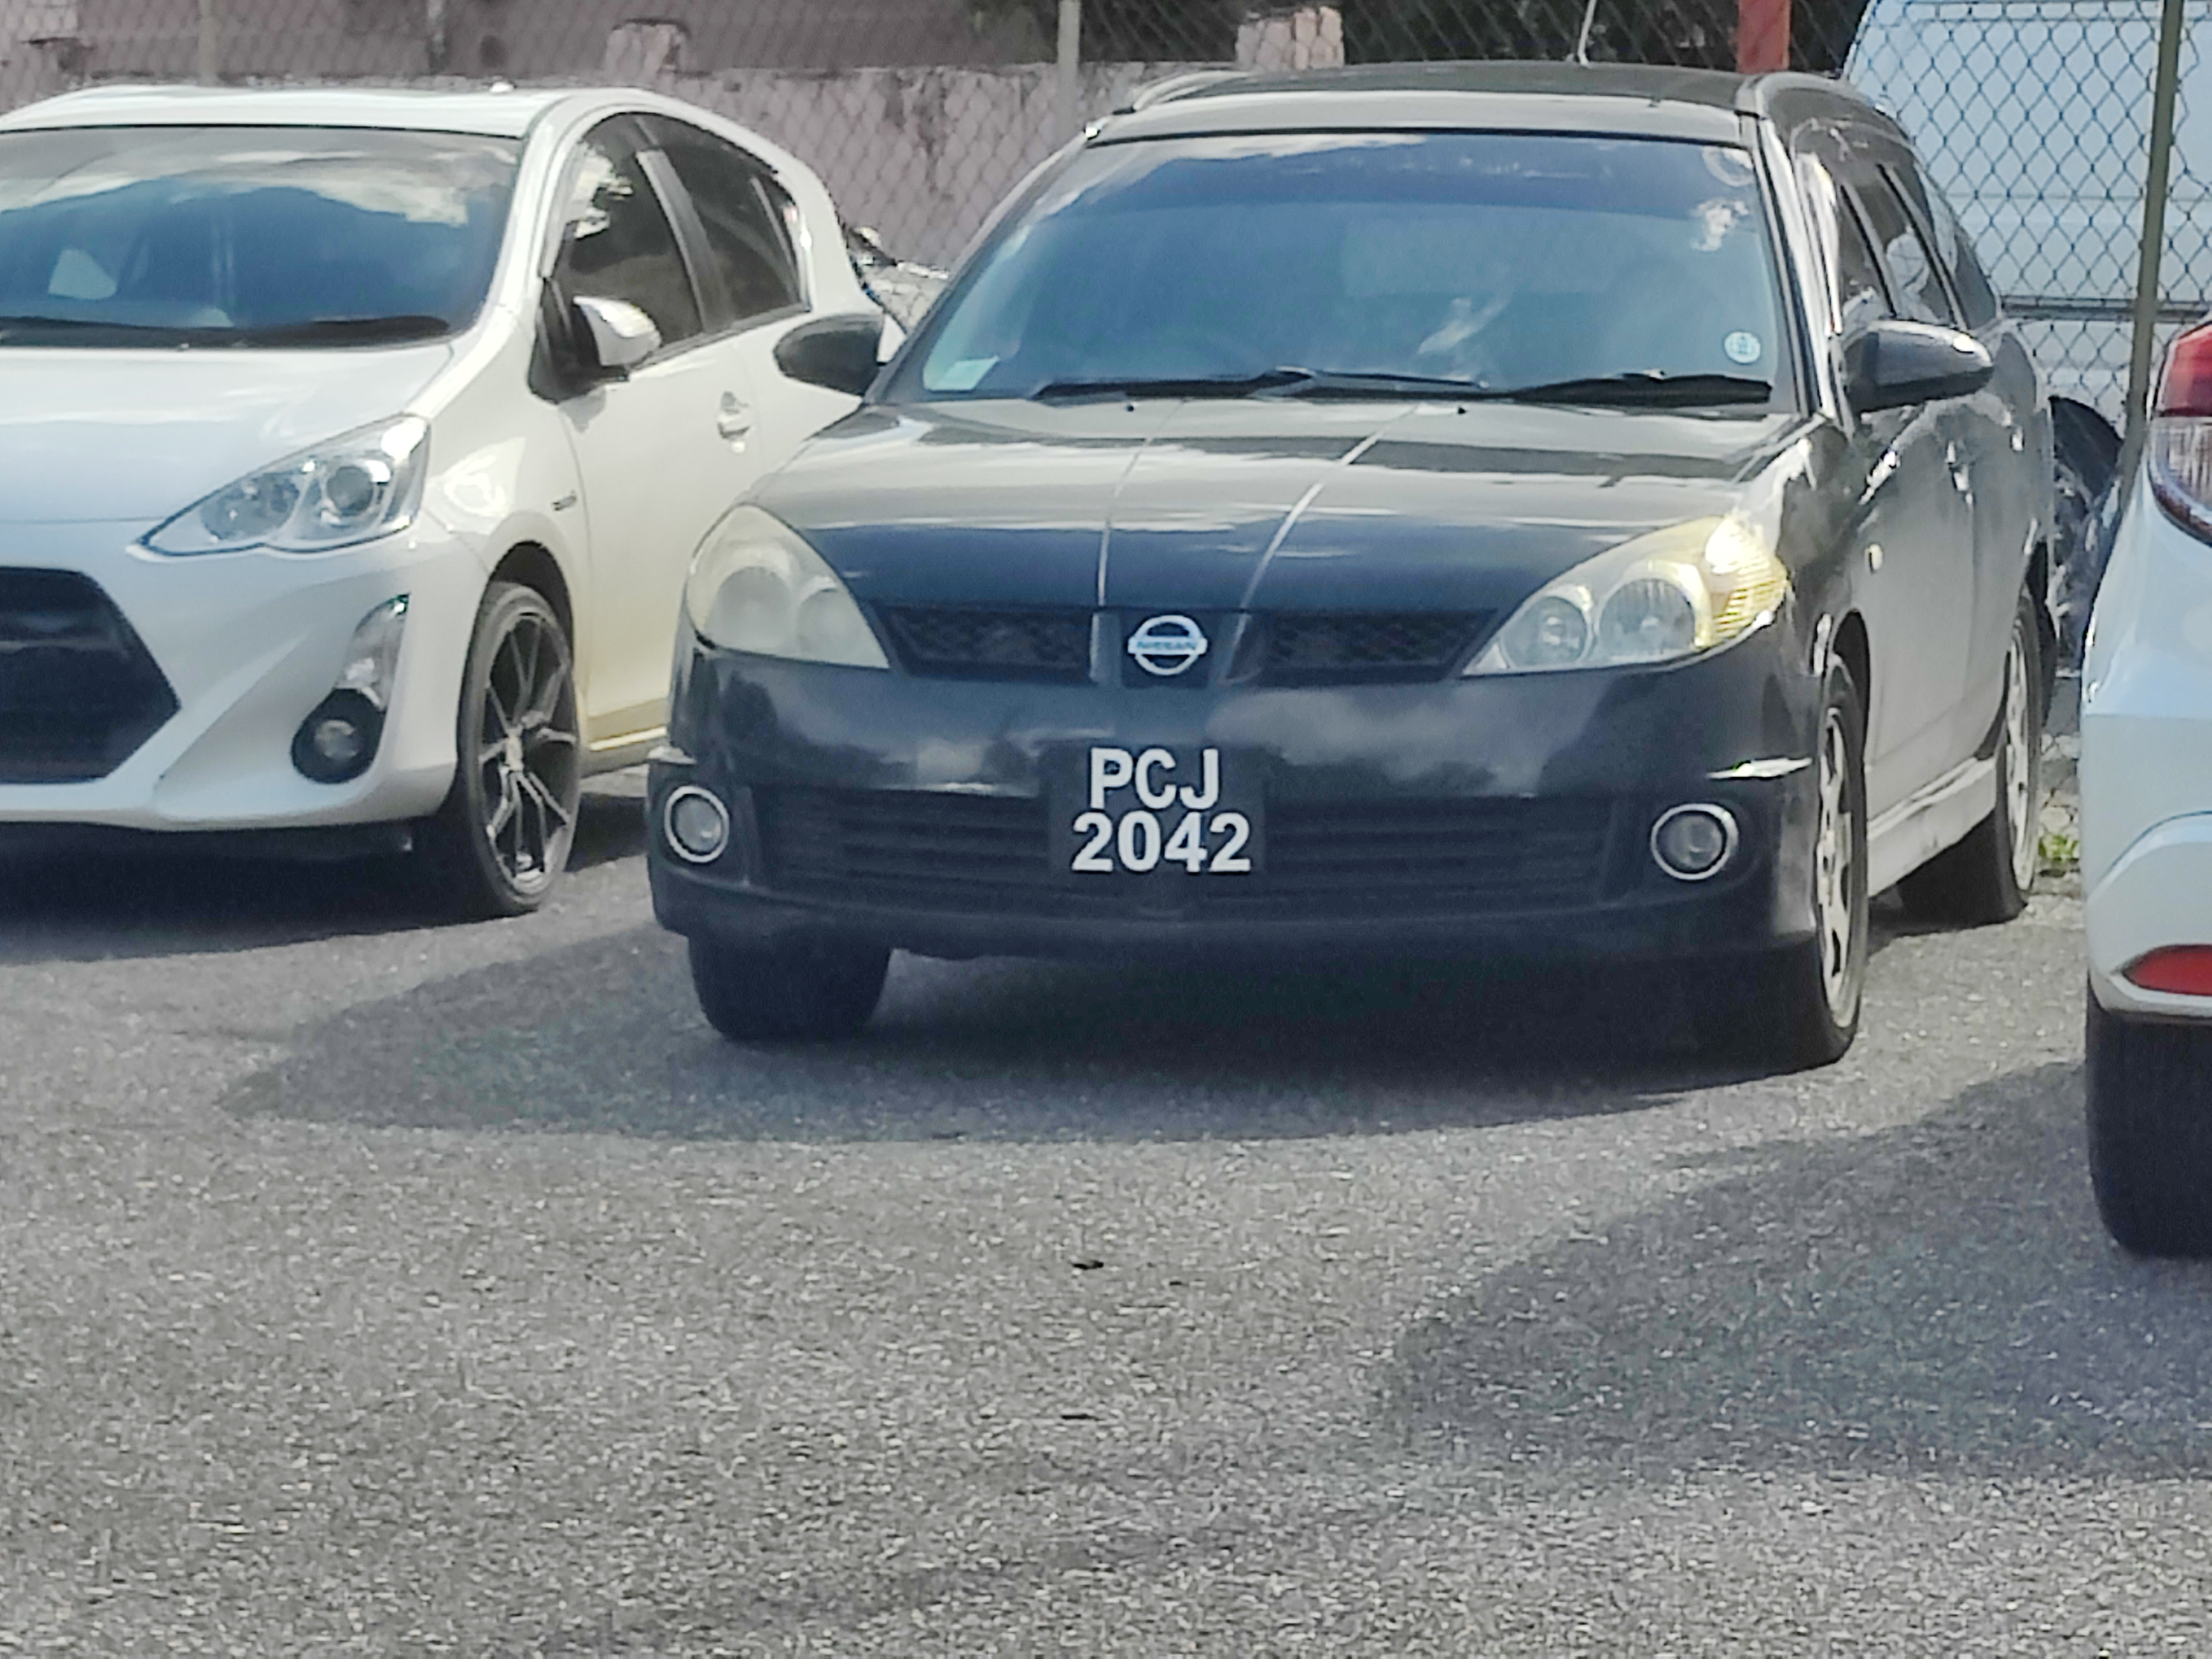License-Plate: (1052, 744, 1263, 879)
